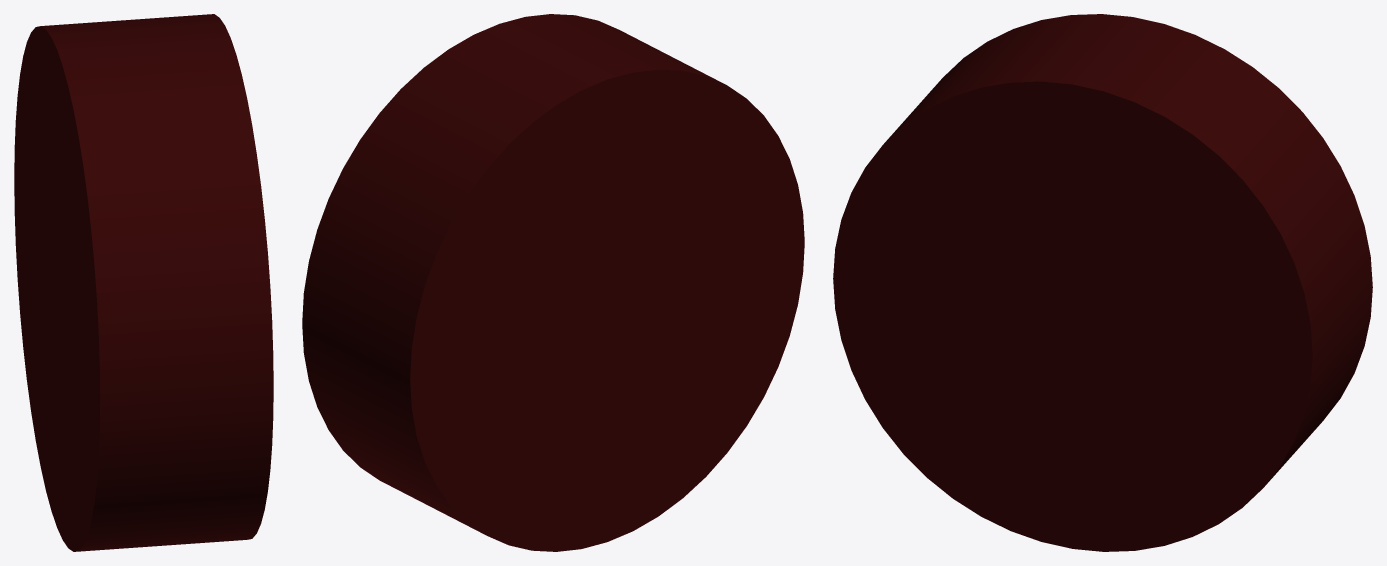
The model's file is original-42.obj.
The picture shows the model from 3 angles, left to right: view 1: azimuth 30°, elevation 25°; view 2: azimuth 150°, elevation 25°; view 3: azimuth 270°, elevation 25°; orthographic projection. The views are drawn at different scales.
Parts seen in each view (by area): view 1: Group18/mesh95/mesh95-geometry#mesh95-geometry; view 2: Group18/mesh95/mesh95-geometry#mesh95-geometry; view 3: Group18/mesh95/mesh95-geometry#mesh95-geometry.
Part boxes in pixels (x1,y1,x2,y2): Group18/mesh95/mesh95-geometry#mesh95-geometry: (14, 14, 273, 551); Group18/mesh95/mesh95-geometry#mesh95-geometry: (302, 14, 804, 551); Group18/mesh95/mesh95-geometry#mesh95-geometry: (833, 14, 1372, 551).
Size of the model in its own units: 0.0326 by 0.049 by 0.0517.
